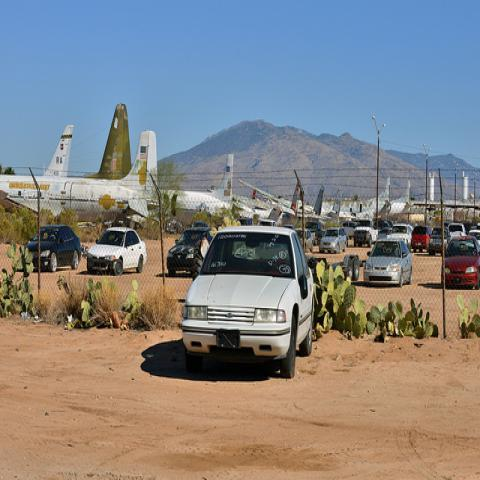car: (178, 223, 319, 379), (351, 216, 479, 248), (86, 226, 146, 277), (25, 224, 82, 272), (365, 233, 413, 286), (167, 227, 211, 278), (441, 235, 479, 290), (319, 228, 347, 254), (390, 223, 414, 252), (428, 226, 448, 256), (412, 225, 432, 252), (447, 224, 467, 243), (298, 228, 313, 251), (340, 220, 356, 237)
truck: (353, 219, 378, 248), (447, 223, 468, 244)
